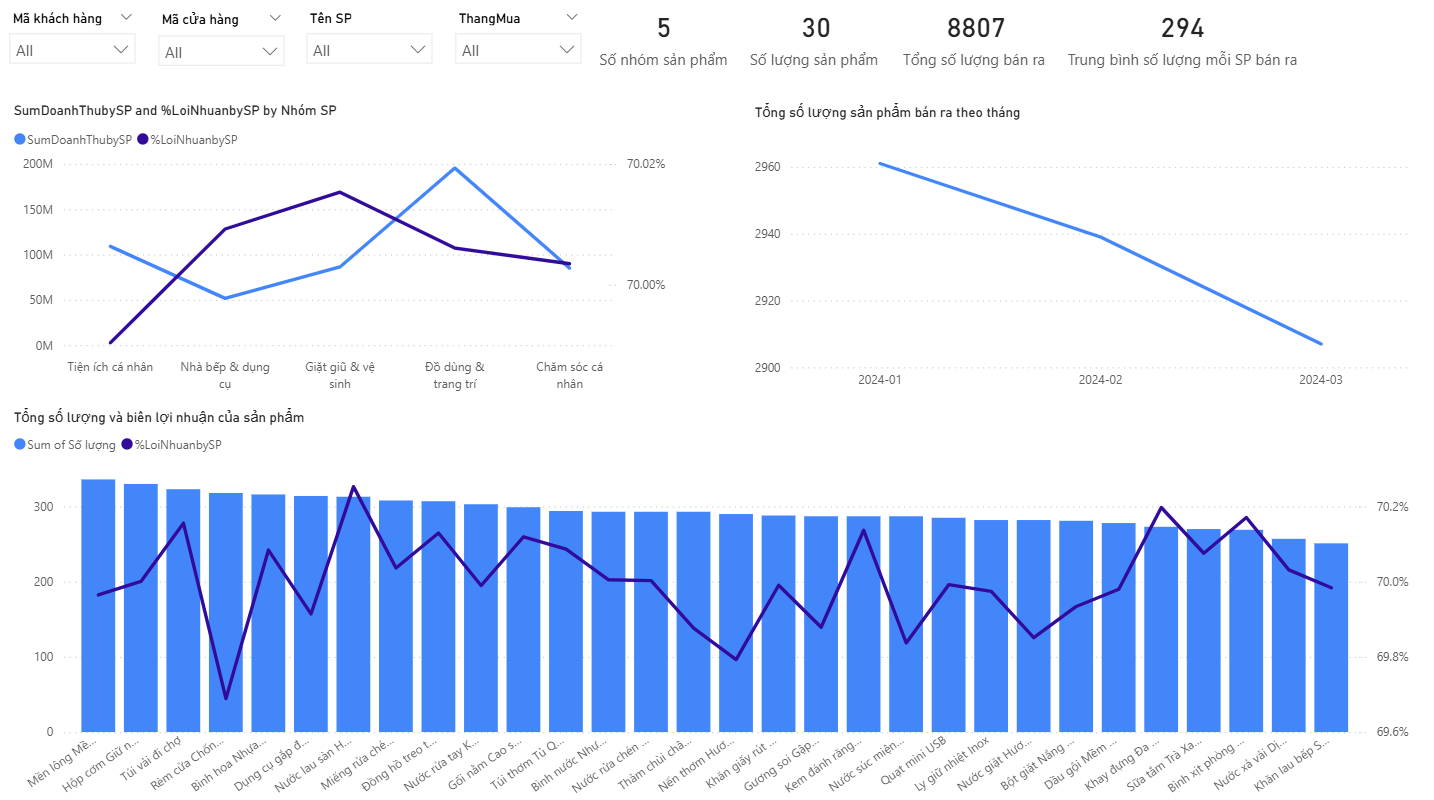

What the dashboard file says about the page in this screenshot:
{"tool":"powerbi","page":{"name":"SP","canvas":[1280,720],"ordinal":1},"visuals":[{"type":"lineChart","fields":{"Category":["SP.Nhóm SP"],"Y":["BanHang.SumDoanhThubySP"],"Y2":["BanHang.%LoiNhuanbySP"]},"box":[11.5,97.5,588.8,263.3],"z":0},{"type":"lineStackedColumnComboChart","title":"Tổng số lượng và biên lợi nhuận của sản phẩm ","fields":{"Category":["SP.Tên SP"],"Y":["Sum(BanHang.Số lượng)"],"Y2":["BanHang.%LoiNhuanbySP"]},"box":[11.5,368,1247.6,352],"z":1000},{"type":"lineChart","title":"Tổng số lượng sản phẩm bán ra theo tháng ","fields":{"Y":["Sum(BanHang.Số lượng)"],"Category":["BanHang.ThangMua"]},"box":[668.6,97.5,590.5,263.3],"z":2000},{"type":"slicer","fields":{"Values":["KH.Mã khách hàng"]},"box":[2.7,10.6,131.8,67.4],"z":3000},{"type":"slicer","fields":{"Values":["ChiPhi.Mã cửa hàng"]},"box":[134.4,10.6,131.8,67.4],"z":4000},{"type":"slicer","fields":{"Values":["SP.Tên SP"]},"box":[266.2,10.6,131.8,67.4],"z":5000},{"type":"slicer","fields":{"Values":["BanHang.ThangMua"]},"box":[397.7,10.6,131.7,67.4],"z":6000},{"type":"card","fields":{"Values":["Count(SP.Nhóm SP)"]},"box":[528.3,0,128.7,76],"z":7000},{"type":"card","fields":{"Values":["Count(SP.Tên SP)"]},"box":[657,0,142.1,76],"z":8000},{"type":"card","fields":{"Values":["Sum(BanHang.Số lượng)"]},"box":[799.1,0,142.1,76],"z":9000},{"type":"card","fields":{"Values":["BanHang.AvgSoluongSP"]},"box":[941.3,0,222.8,75.8],"z":9001}]}

Visuals, with their boxes in screenshot pixels (x1, y1, x2, y2), scaled from the page's 1280x720 canvas onto the 1434x800 screenshot:
lineChart - SP.Nhóm SP x BanHang.SumDoanhThubySP: [left=13, top=108, right=673, bottom=401]
"Tổng số lượng và biên lợi nhuận của sản phẩm " lineStackedColumnComboChart: [left=13, top=409, right=1411, bottom=799]
"Tổng số lượng sản phẩm bán ra theo tháng " lineChart: [left=749, top=108, right=1411, bottom=401]
slicer - KH.Mã khách hàng: [left=3, top=12, right=151, bottom=87]
slicer - ChiPhi.Mã cửa hàng: [left=151, top=12, right=298, bottom=87]
slicer - SP.Tên SP: [left=298, top=12, right=446, bottom=87]
slicer - BanHang.ThangMua: [left=446, top=12, right=593, bottom=87]
card - Count(SP.Nhóm SP): [left=592, top=0, right=736, bottom=84]
card - Count(SP.Tên SP): [left=736, top=0, right=895, bottom=84]
card - Sum(BanHang.Số lượng): [left=895, top=0, right=1054, bottom=84]
card - BanHang.AvgSoluongSP: [left=1055, top=0, right=1304, bottom=84]
